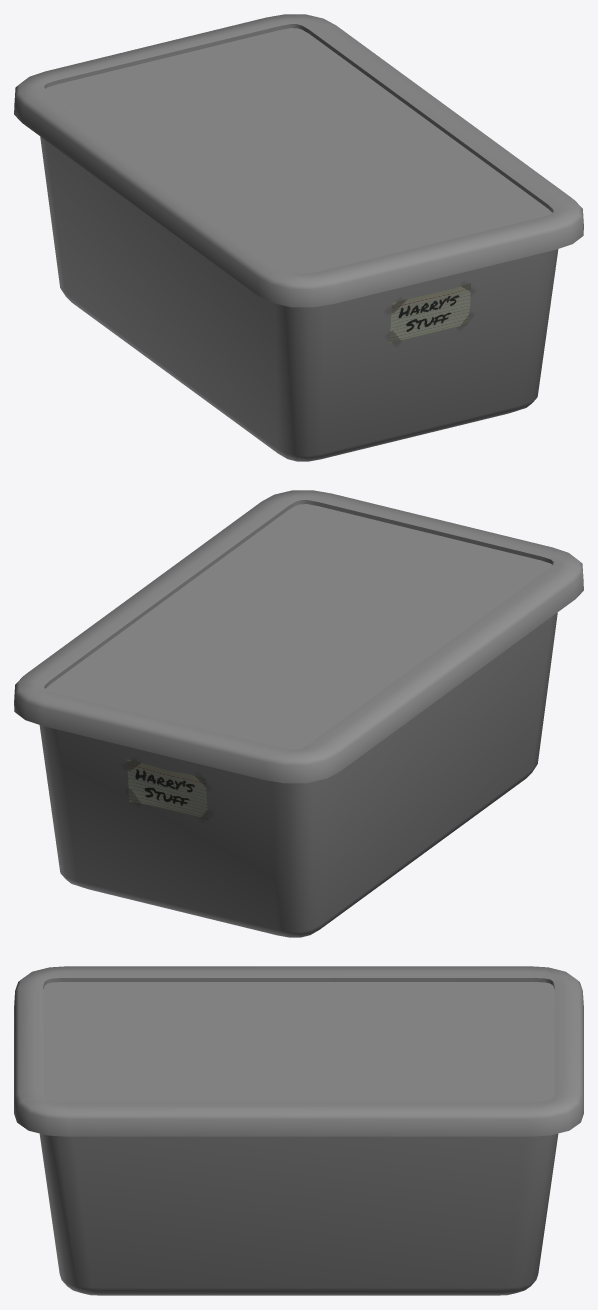
Rendered from SM_Plastic_Container_01b.fbx.
3 renders of one model, top to bottom at view 1: azimuth 30°, elevation 25°; view 2: azimuth 150°, elevation 25°; view 3: azimuth 270°, elevation 25°, orthographic. The views are drawn at different scales.
Visible parts, largest first — view 1: SM_Plastic_Container_01b_LOD0; view 2: SM_Plastic_Container_01b_LOD0; view 3: SM_Plastic_Container_01b_LOD0.
Part boxes in pixels (x1,y1,x2,y2): SM_Plastic_Container_01b_LOD0: (14, 14, 583, 461); SM_Plastic_Container_01b_LOD0: (14, 490, 583, 937); SM_Plastic_Container_01b_LOD0: (14, 966, 583, 1295).
Size of the model in its own units: 39.23 by 62.17 by 24.23.
Materials: 1 (1 with a texture image).
